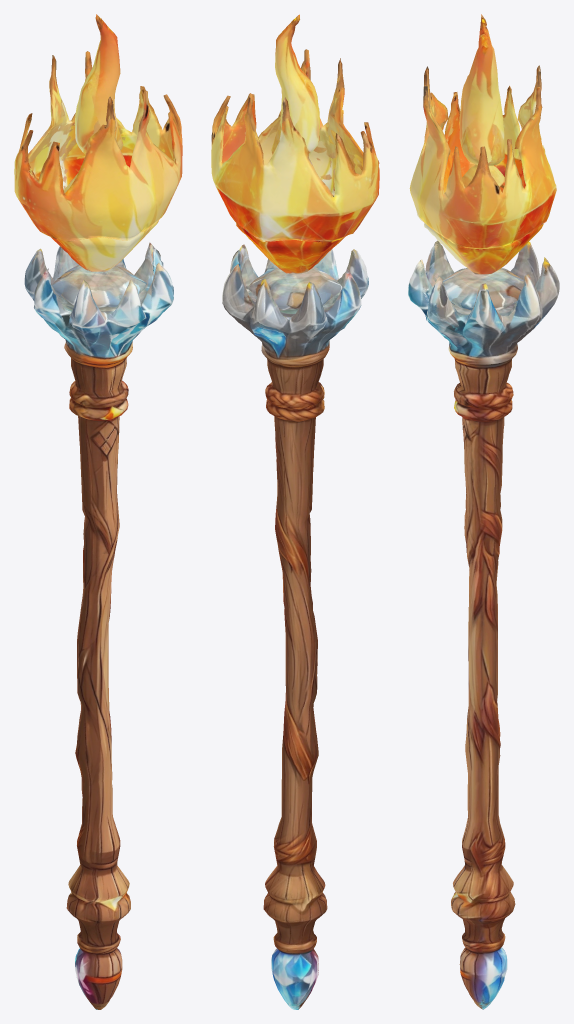
The model's file is flamebinders-wrath.glb.
The picture shows the model from 3 angles, left to right: view 1: azimuth 30°, elevation 25°; view 2: azimuth 150°, elevation 25°; view 3: azimuth 270°, elevation 25°; orthographic projection.
Size of the model in its own units: 0.341 by 2 by 0.2759.
Materials: 1 (1 with a texture image).
